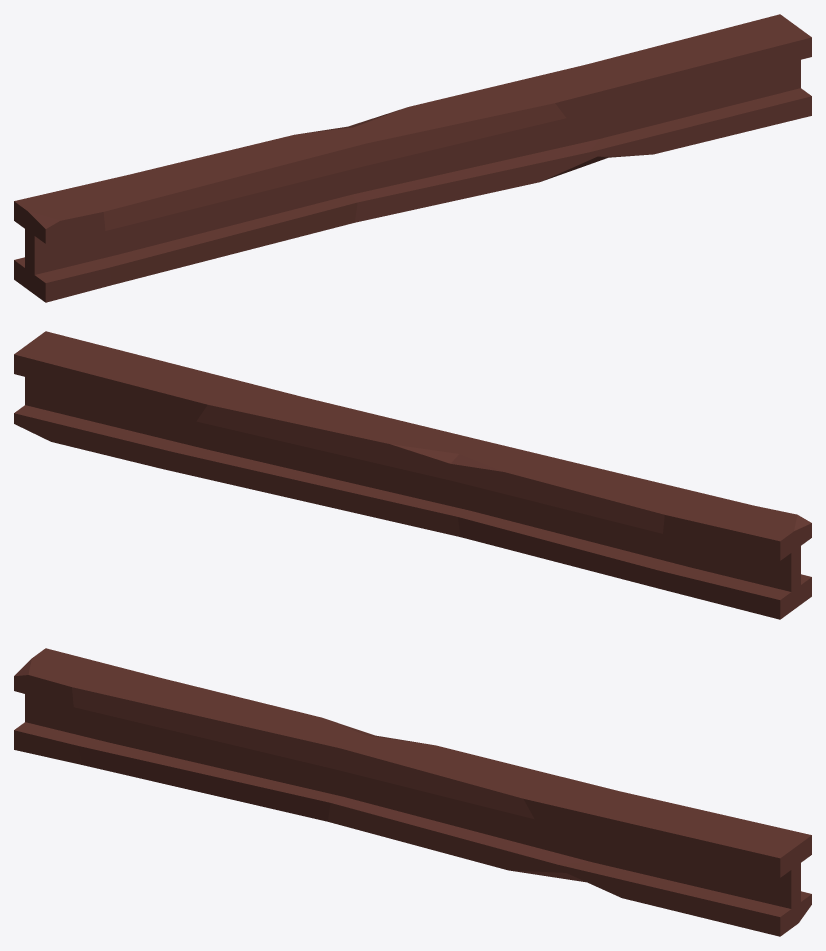
The model's file is SM_Prop_I_Beam_02.glb.
3 renders of one model, top to bottom at view 1: azimuth 30°, elevation 25°; view 2: azimuth 150°, elevation 25°; view 3: azimuth 330°, elevation 25°, orthographic.
Visible parts, largest first — view 1: SM_Prop_I_Beam_02; view 2: SM_Prop_I_Beam_02; view 3: SM_Prop_I_Beam_02.
Part boxes in pixels (x1,y1,x2,y2): SM_Prop_I_Beam_02: [14, 14, 811, 302]; SM_Prop_I_Beam_02: [14, 331, 811, 619]; SM_Prop_I_Beam_02: [14, 648, 811, 936].
Bounding box in the file's own units: 2 × 0.1956 × 0.1434.
1 material, 1 textured.
